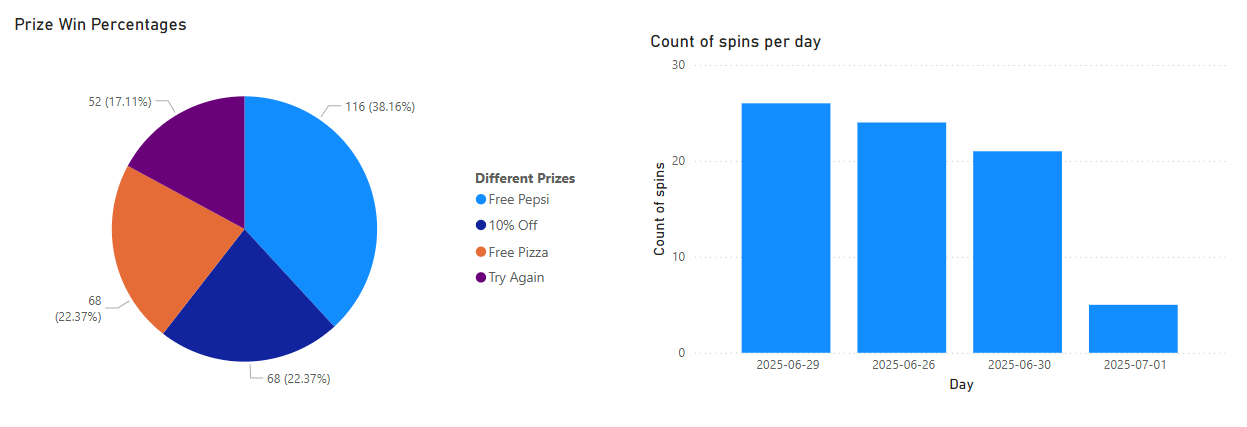

What the dashboard file says about the page in this screenshot:
{"tool":"powerbi","page":{"name":"Page 1","canvas":[1280,720],"ordinal":0},"visuals":[{"type":"pieChart","title":"Prize Win Percentages","fields":{"Category":["spin-summary (2).prizeCounts.prize"],"Y":["Sum(spin-summary (2).prizeCounts.count)"]},"box":[53.9,50.4,570.1,399.2],"z":0},{"type":"columnChart","title":"Count of spins per day","fields":{"Y":["Sum(spin-summary (3).spinsPerDay.count)"],"Category":["spin-summary (3).spinsPerDay.spin_date"]},"box":[672.1,67.1,571.9,356],"z":1000}]}

Visuals, with their boxes on the page's 1280x720 design canvas (x1, y1, x2, y2). These are canvas units, not pixel positions in the 1247x427 screenshot, which may show the page scaled, cropped or inside an application window:
"Prize Win Percentages" pieChart: [54, 50, 624, 450]
"Count of spins per day" columnChart: [672, 67, 1244, 423]
